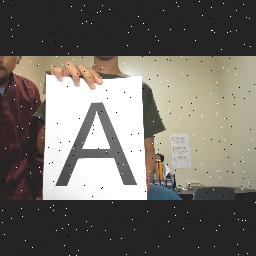a: (52, 99, 142, 197)
